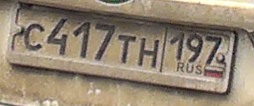character: (91, 20, 116, 63), (47, 13, 70, 57), (70, 17, 91, 62), (137, 35, 160, 71), (24, 20, 47, 54), (185, 28, 204, 65), (117, 32, 136, 68), (168, 28, 186, 64), (204, 33, 222, 66)
